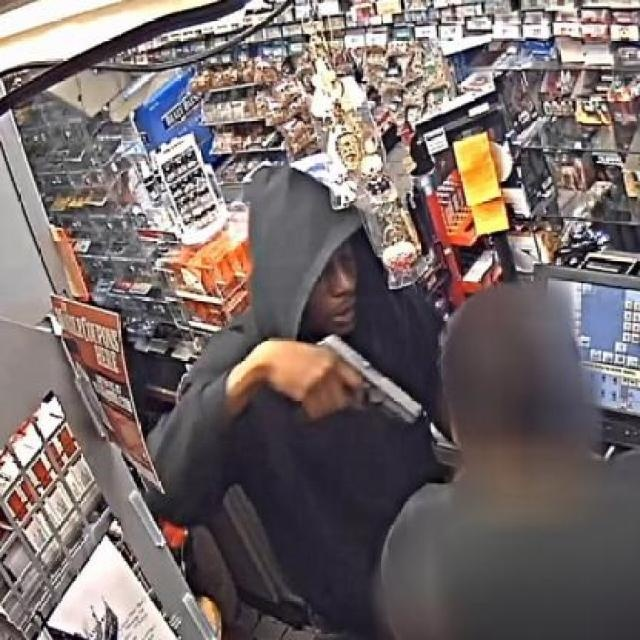gun: (290, 335, 432, 436)
